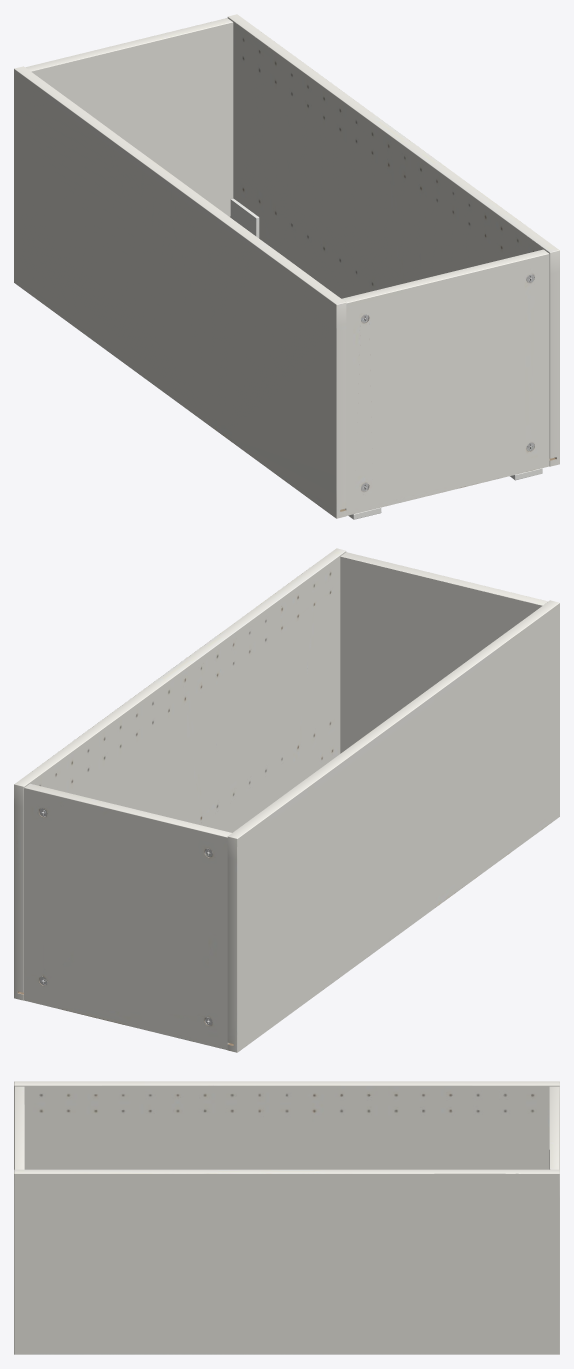
File: METOD Rangement mural blanc 40x37x100 cm.glb
The picture shows the model from 3 angles, top to bottom: view 1: azimuth 30°, elevation 25°; view 2: azimuth 150°, elevation 25°; view 3: azimuth 270°, elevation 25°; orthographic projection. The views are drawn at different scales.
Parts seen in each view (by area): view 1: 50205532-METOD001; view 2: 50205532-METOD001; view 3: 50205532-METOD001.
Boxes of the visible parts, box(x1,y1,x2,y2) form: 50205532-METOD001: box(14, 14, 559, 519); 50205532-METOD001: box(14, 548, 559, 1052); 50205532-METOD001: box(14, 1081, 559, 1354).
Size of the model in its own units: 0.4 by 0.376 by 1.
Materials: 1 (1 with a texture image).
